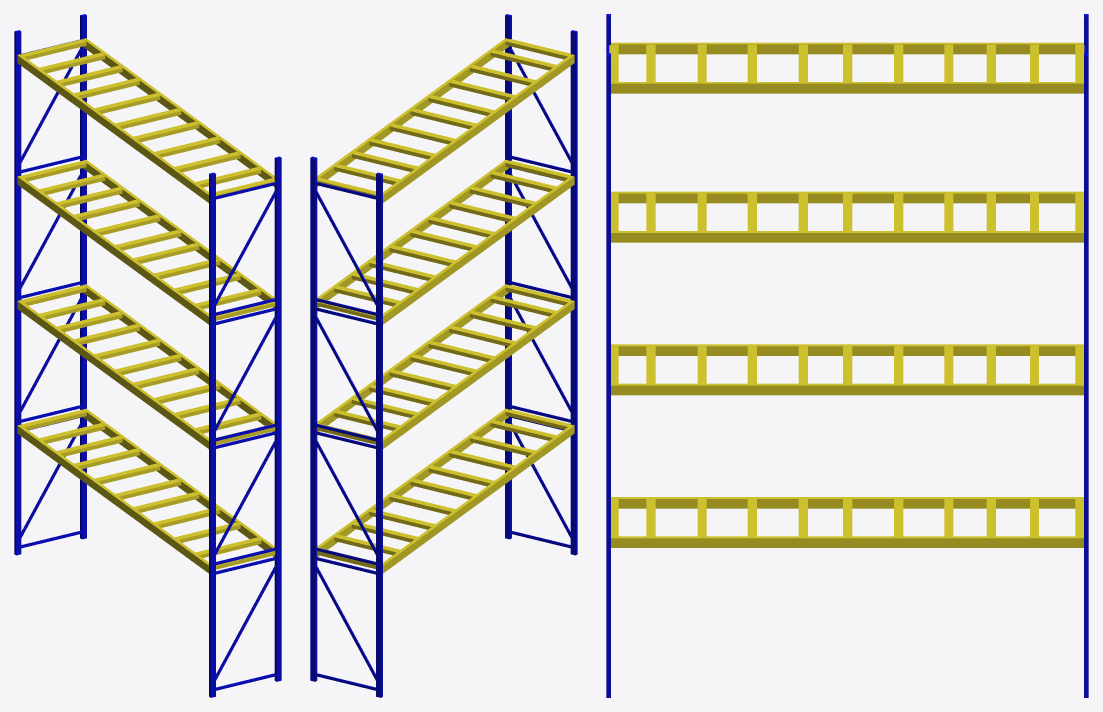
Rendered from Racks.fbx.
The picture shows the model from 3 angles, left to right: view 1: azimuth 30°, elevation 25°; view 2: azimuth 150°, elevation 25°; view 3: azimuth 270°, elevation 25°; orthographic projection. The views are drawn at different scales.
Visible parts, largest first — view 1: Cube.002, Cube.039, Cube.027, Cube.052, Cube.065, Cube.068; view 2: Cube.027, Cube.002, Cube.039, Cube.065, Cube.068, Cube.052; view 3: Cube.039, Cube.052, Cube.065, Cube.068, Cube.027, Cube.002.
Part boxes in pixels (x1,y1,x2,y2): Cube.002: [209, 156, 281, 697]; Cube.039: [17, 38, 275, 202]; Cube.027: [14, 14, 86, 555]; Cube.052: [17, 160, 275, 324]; Cube.065: [17, 284, 275, 448]; Cube.068: [17, 408, 275, 573]; Cube.027: [310, 156, 382, 697]; Cube.002: [505, 14, 577, 555]; Cube.039: [317, 38, 574, 202]; Cube.065: [317, 284, 574, 448]; Cube.068: [317, 408, 574, 573]; Cube.052: [317, 160, 574, 324]; Cube.039: [609, 42, 1084, 93]; Cube.052: [611, 191, 1083, 242]; Cube.065: [611, 344, 1083, 395]; Cube.068: [611, 497, 1083, 547]; Cube.027: [1084, 14, 1088, 697]; Cube.002: [606, 14, 610, 697].
Size of the model in its own units: 423 by 2984 by 2032.
